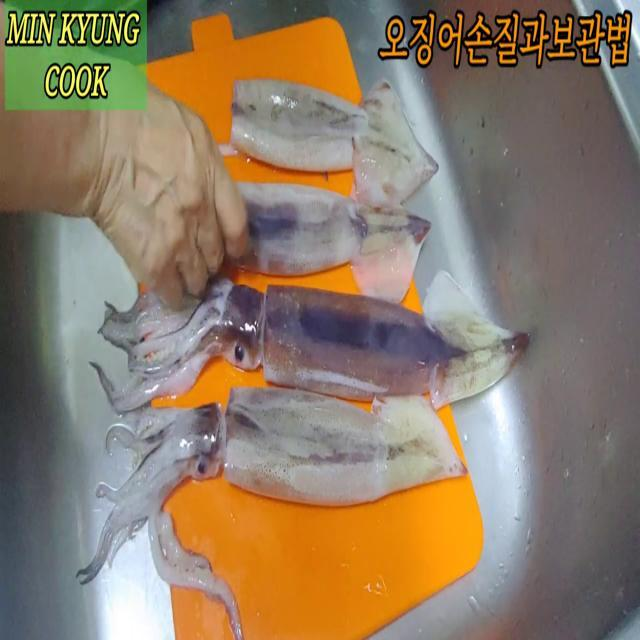SQUID: (180, 265, 538, 428), (120, 380, 453, 547), (192, 63, 470, 220), (183, 158, 465, 308)
